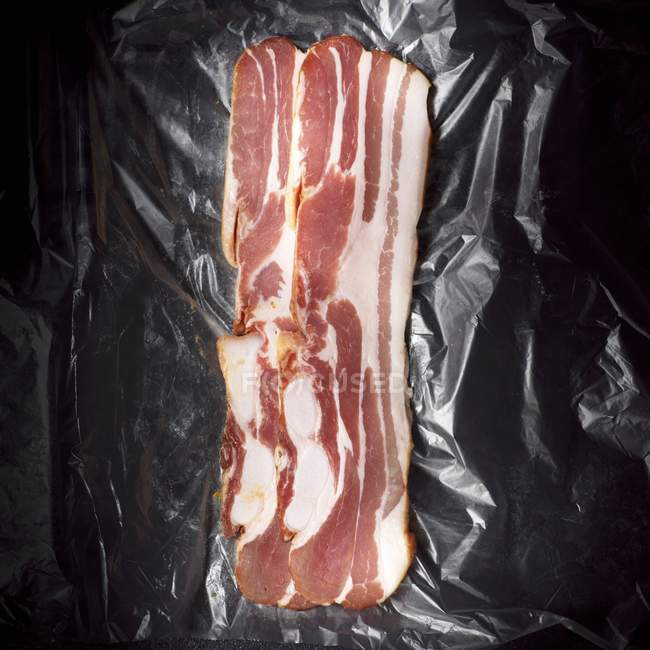bacon: (216, 32, 414, 609)
